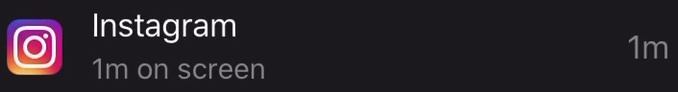name: (85, 4, 248, 46)
time: (88, 55, 136, 86)
